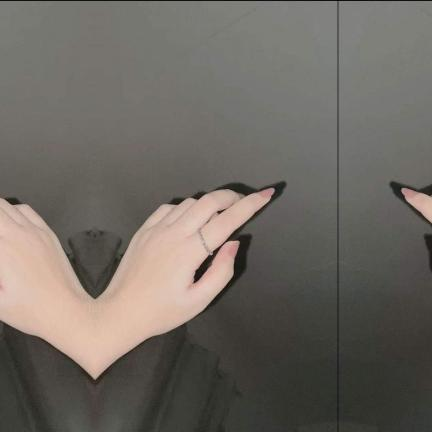Nail: (228, 241, 239, 259), (259, 188, 274, 198), (401, 188, 416, 198)
